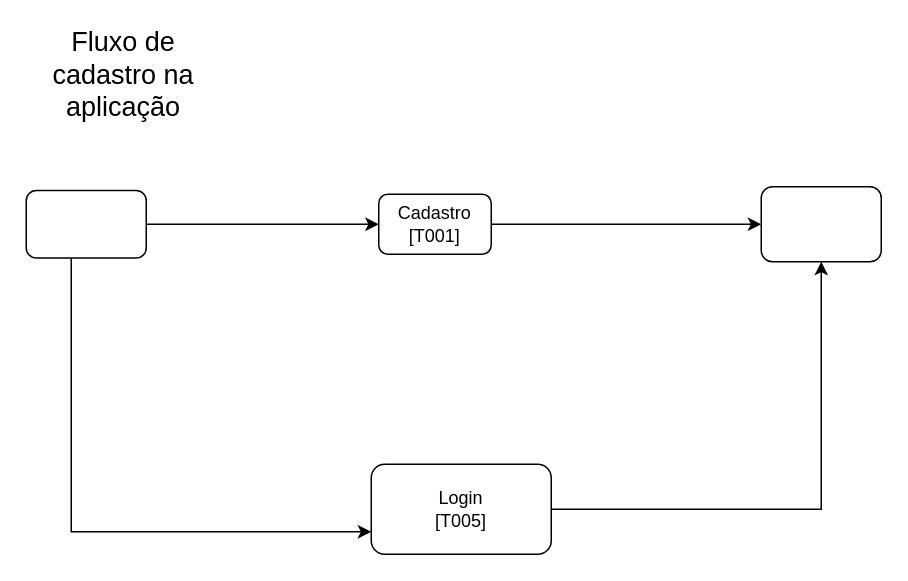
Some shapes in this 908 by 581 pixel diagram are drawn without their labels. The centre of each missing label's shape, as x and y in pixels:
Acesso Site Público: the point at 85,223
Confirmação Email: the point at 820,223
